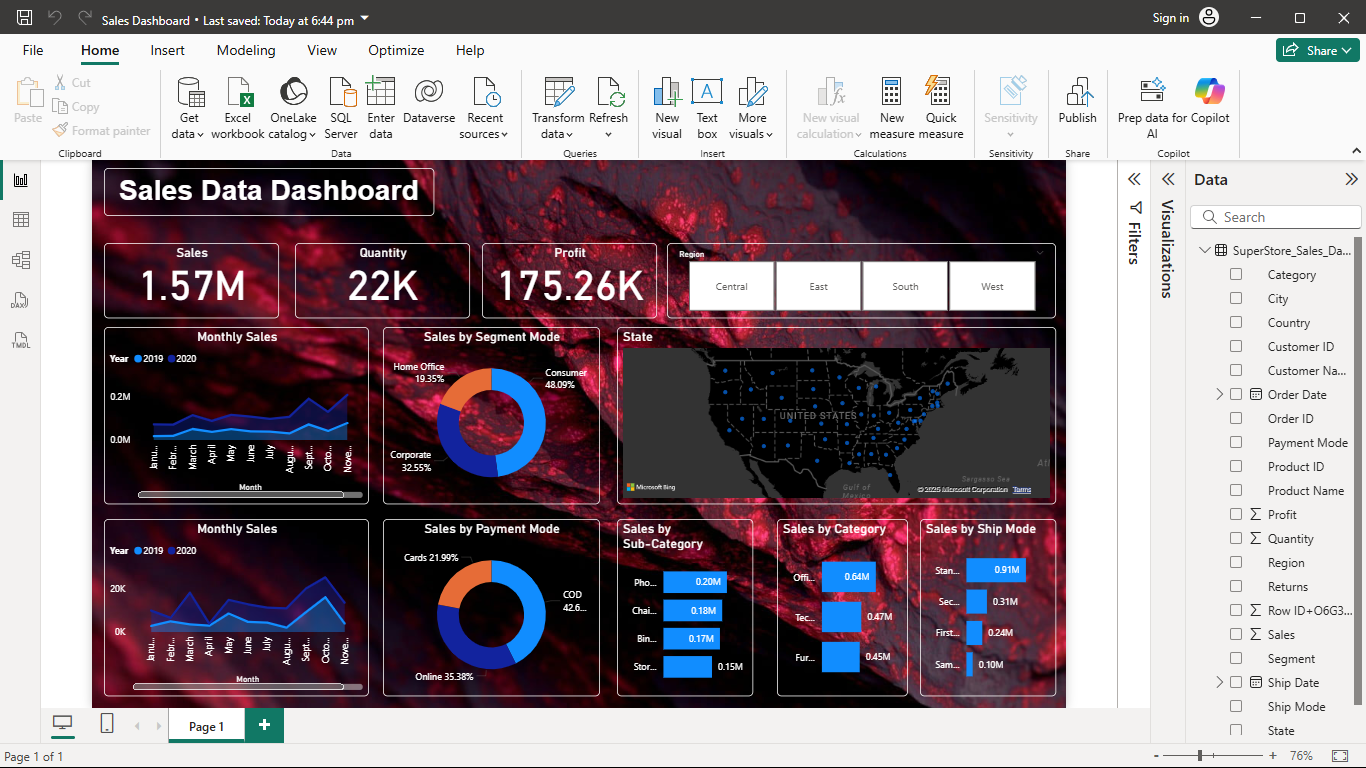

The dashboard page shown, as its layout file describes it:
{"tool":"powerbi","page":{"name":"Page 1","canvas":[1280,720],"ordinal":0},"visuals":[{"type":"clusteredBarChart","title":"Sales by Category","fields":{"Category":["SuperStore_Sales_Dataset.Category"],"Y":["Sum(SuperStore_Sales_Dataset.Sales)"]},"box":[900.1,472.1,172,232.6],"z":0},{"type":"clusteredBarChart","title":"Sales by Sub-Category","fields":{"Category":["SuperStore_Sales_Dataset.Sub-Category"],"Y":["Sum(SuperStore_Sales_Dataset.Sales)"]},"box":[689.5,472.1,178.9,232.6],"z":1000},{"type":"clusteredBarChart","title":"Sales by Ship Mode","fields":{"Category":["SuperStore_Sales_Dataset.Ship Mode"],"Y":["Sum(SuperStore_Sales_Dataset.Sales)"]},"box":[1087.3,472.1,178.9,232.6],"z":2000},{"type":"stackedAreaChart","title":"Monthly Sales","fields":{"Y":["Sum(SuperStore_Sales_Dataset.Sales)"],"Category":["SuperStore_Sales_Dataset.Order Date.Variation.Date Hierarchy.Month","SuperStore_Sales_Dataset.Order Date.Variation.Date Hierarchy.Day"],"Series":["SuperStore_Sales_Dataset.Order Date.Variation.Date Hierarchy.Year"]},"box":[15.1,218.8,348.2,232.6],"z":3000},{"type":"stackedAreaChart","title":"Monthly Sales","fields":{"Category":["SuperStore_Sales_Dataset.Order Date.Variation.Date Hierarchy.Month","SuperStore_Sales_Dataset.Order Date.Variation.Date Hierarchy.Day"],"Series":["SuperStore_Sales_Dataset.Order Date.Variation.Date Hierarchy.Year"],"Y":["Sum(SuperStore_Sales_Dataset.Profit)"]},"box":[15.1,472.1,348.2,232.6],"z":4000},{"type":"slicer","fields":{"Values":["SuperStore_Sales_Dataset.Region"]},"box":[755.6,108.7,510.6,99.1],"z":5000},{"type":"donutChart","title":"Sales by Payment Mode","fields":{"Category":["SuperStore_Sales_Dataset.Payment Mode"],"Y":["Sum(SuperStore_Sales_Dataset.Sales)"]},"box":[382.6,472.1,284.9,232.6],"z":6000},{"type":"map","fields":{"Category":["SuperStore_Sales_Dataset.State"]},"box":[689.5,218.8,576.7,232.6],"z":7000},{"type":"donutChart","title":"Sales by Segment Mode","fields":{"Y":["Sum(SuperStore_Sales_Dataset.Sales)"],"Category":["SuperStore_Sales_Dataset.Segment"]},"box":[382.6,218.8,284.9,232.6],"z":7001},{"type":"card","title":"Sales","fields":{"Values":["Sum(SuperStore_Sales_Dataset.Sales)"]},"box":[15.1,108.7,229.8,99.1],"z":7002},{"type":"card","title":"Quantity","fields":{"Values":["Sum(SuperStore_Sales_Dataset.Quantity)"]},"box":[267,108.7,229.8,99.1],"z":7003},{"type":"card","title":"Profit","fields":{"Values":["Sum(SuperStore_Sales_Dataset.Profit)"]},"box":[512,108.7,229.8,99.1],"z":7004},{"type":"textbox","box":[15.1,11,433.5,63.3],"z":7005}]}

Visuals, with their boxes on the page's 1280x720 design canvas (x1, y1, x2, y2). These are canvas units, not pixel positions in the 1366x768 screenshot, which may show the page scaled, cropped or inside an application window:
"Sales by Category" clusteredBarChart: bbox(900, 472, 1072, 705)
"Sales by Sub-Category" clusteredBarChart: bbox(690, 472, 868, 705)
"Sales by Ship Mode" clusteredBarChart: bbox(1087, 472, 1266, 705)
"Monthly Sales" stackedAreaChart: bbox(15, 219, 363, 451)
"Monthly Sales" stackedAreaChart: bbox(15, 472, 363, 705)
slicer - SuperStore_Sales_Dataset.Region: bbox(756, 109, 1266, 208)
"Sales by Payment Mode" donutChart: bbox(383, 472, 668, 705)
map - SuperStore_Sales_Dataset.State: bbox(690, 219, 1266, 451)
"Sales by Segment Mode" donutChart: bbox(383, 219, 668, 451)
"Sales" card: bbox(15, 109, 245, 208)
"Quantity" card: bbox(267, 109, 497, 208)
"Profit" card: bbox(512, 109, 742, 208)
textbox: bbox(15, 11, 449, 74)
